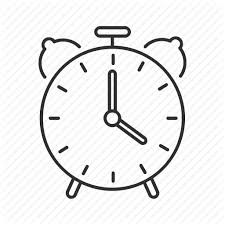alarm_clock: (31, 27, 189, 201), (36, 27, 189, 201), (36, 27, 186, 201)
